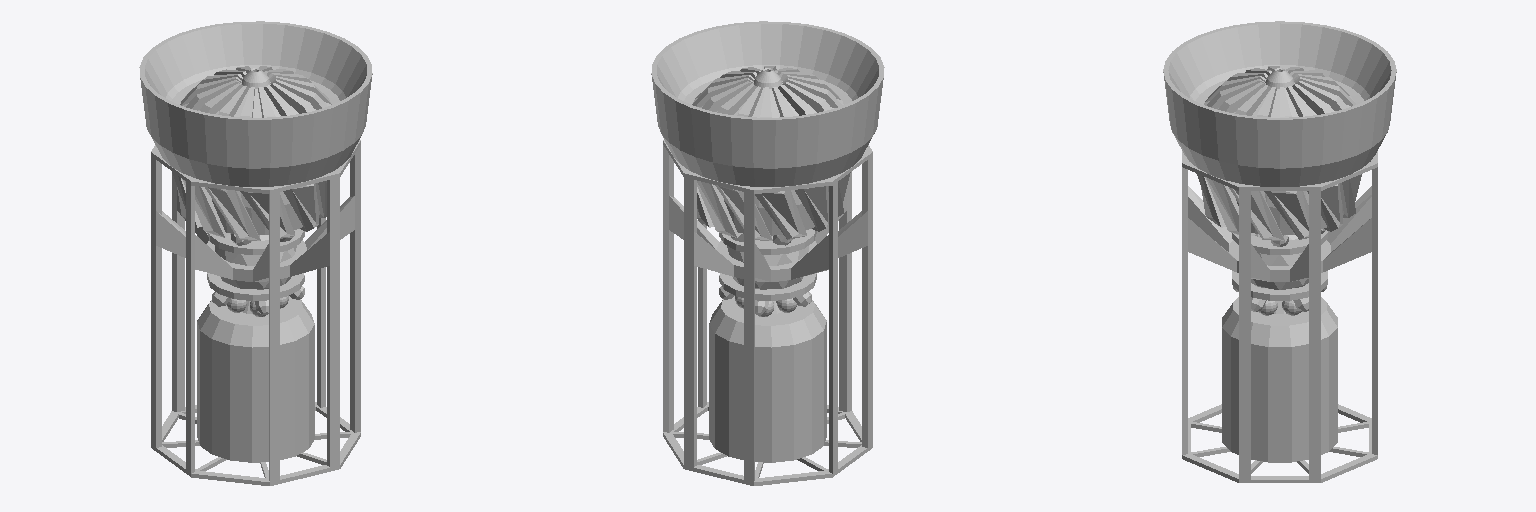
File: drive3x3x5.obj
3 renders of one model, left to right at view 1: azimuth 30°, elevation 25°; view 2: azimuth 150°, elevation 25°; view 3: azimuth 270°, elevation 25°, orthographic.
Visible parts, largest first — view 1: Cylinder.001, 3x5RFrame.003_Cylinder.014, Cylinder.010_Cylinder.030, Cube.002_Cube.004, Cylinder.011_Cylinder.023, Cylinder.007_Cylinder.022, Icosphere, Cylinder_Cylinder.021, Cylinder.002; view 2: Cylinder.001, 3x5RFrame.003_Cylinder.014, Cylinder.010_Cylinder.030, Cube.002_Cube.004, Cylinder.011_Cylinder.023, Cylinder.007_Cylinder.022, Icosphere, Cylinder_Cylinder.021, Cylinder.002; view 3: Cylinder.001, 3x5RFrame.003_Cylinder.014, Cylinder.010_Cylinder.030, Cylinder.011_Cylinder.023, Cube.002_Cube.004, Cylinder.007_Cylinder.022, Icosphere, Cylinder_Cylinder.021.
Part boxes in pixels (x1,y1,x2,y2): Cylinder.001: (139,21,372,186); 3x5RFrame.003_Cylinder.014: (151,140,360,485); Cylinder.010_Cylinder.030: (197,296,314,462); Cube.002_Cube.004: (172,172,326,240); Cylinder.011_Cylinder.023: (156,190,354,281); Cylinder.007_Cylinder.022: (207,273,304,300); Icosphere: (215,233,296,289); Cylinder_Cylinder.021: (207,229,304,254); Cylinder.002: (212,191,319,234); Cylinder.001: (651,21,884,186); 3x5RFrame.003_Cylinder.014: (663,140,872,485); Cylinder.010_Cylinder.030: (709,296,826,462); Cube.002_Cube.004: (697,172,850,240); Cylinder.011_Cylinder.023: (669,189,867,281); Cylinder.007_Cylinder.022: (719,273,816,300); Icosphere: (727,236,808,289); Cylinder_Cylinder.021: (719,229,816,254); Cylinder.002: (724,190,814,235); Cylinder.001: (1163,21,1396,186); 3x5RFrame.003_Cylinder.014: (1182,151,1377,482); Cylinder.010_Cylinder.030: (1222,297,1337,462); Cylinder.011_Cylinder.023: (1188,186,1371,281); Cube.002_Cube.004: (1196,173,1361,240); Cylinder.007_Cylinder.022: (1232,271,1327,300); Icosphere: (1251,234,1308,289); Cylinder_Cylinder.021: (1232,230,1327,254).
Bounding box in the file's own units: 10.73 × 18.86 × 10.73.